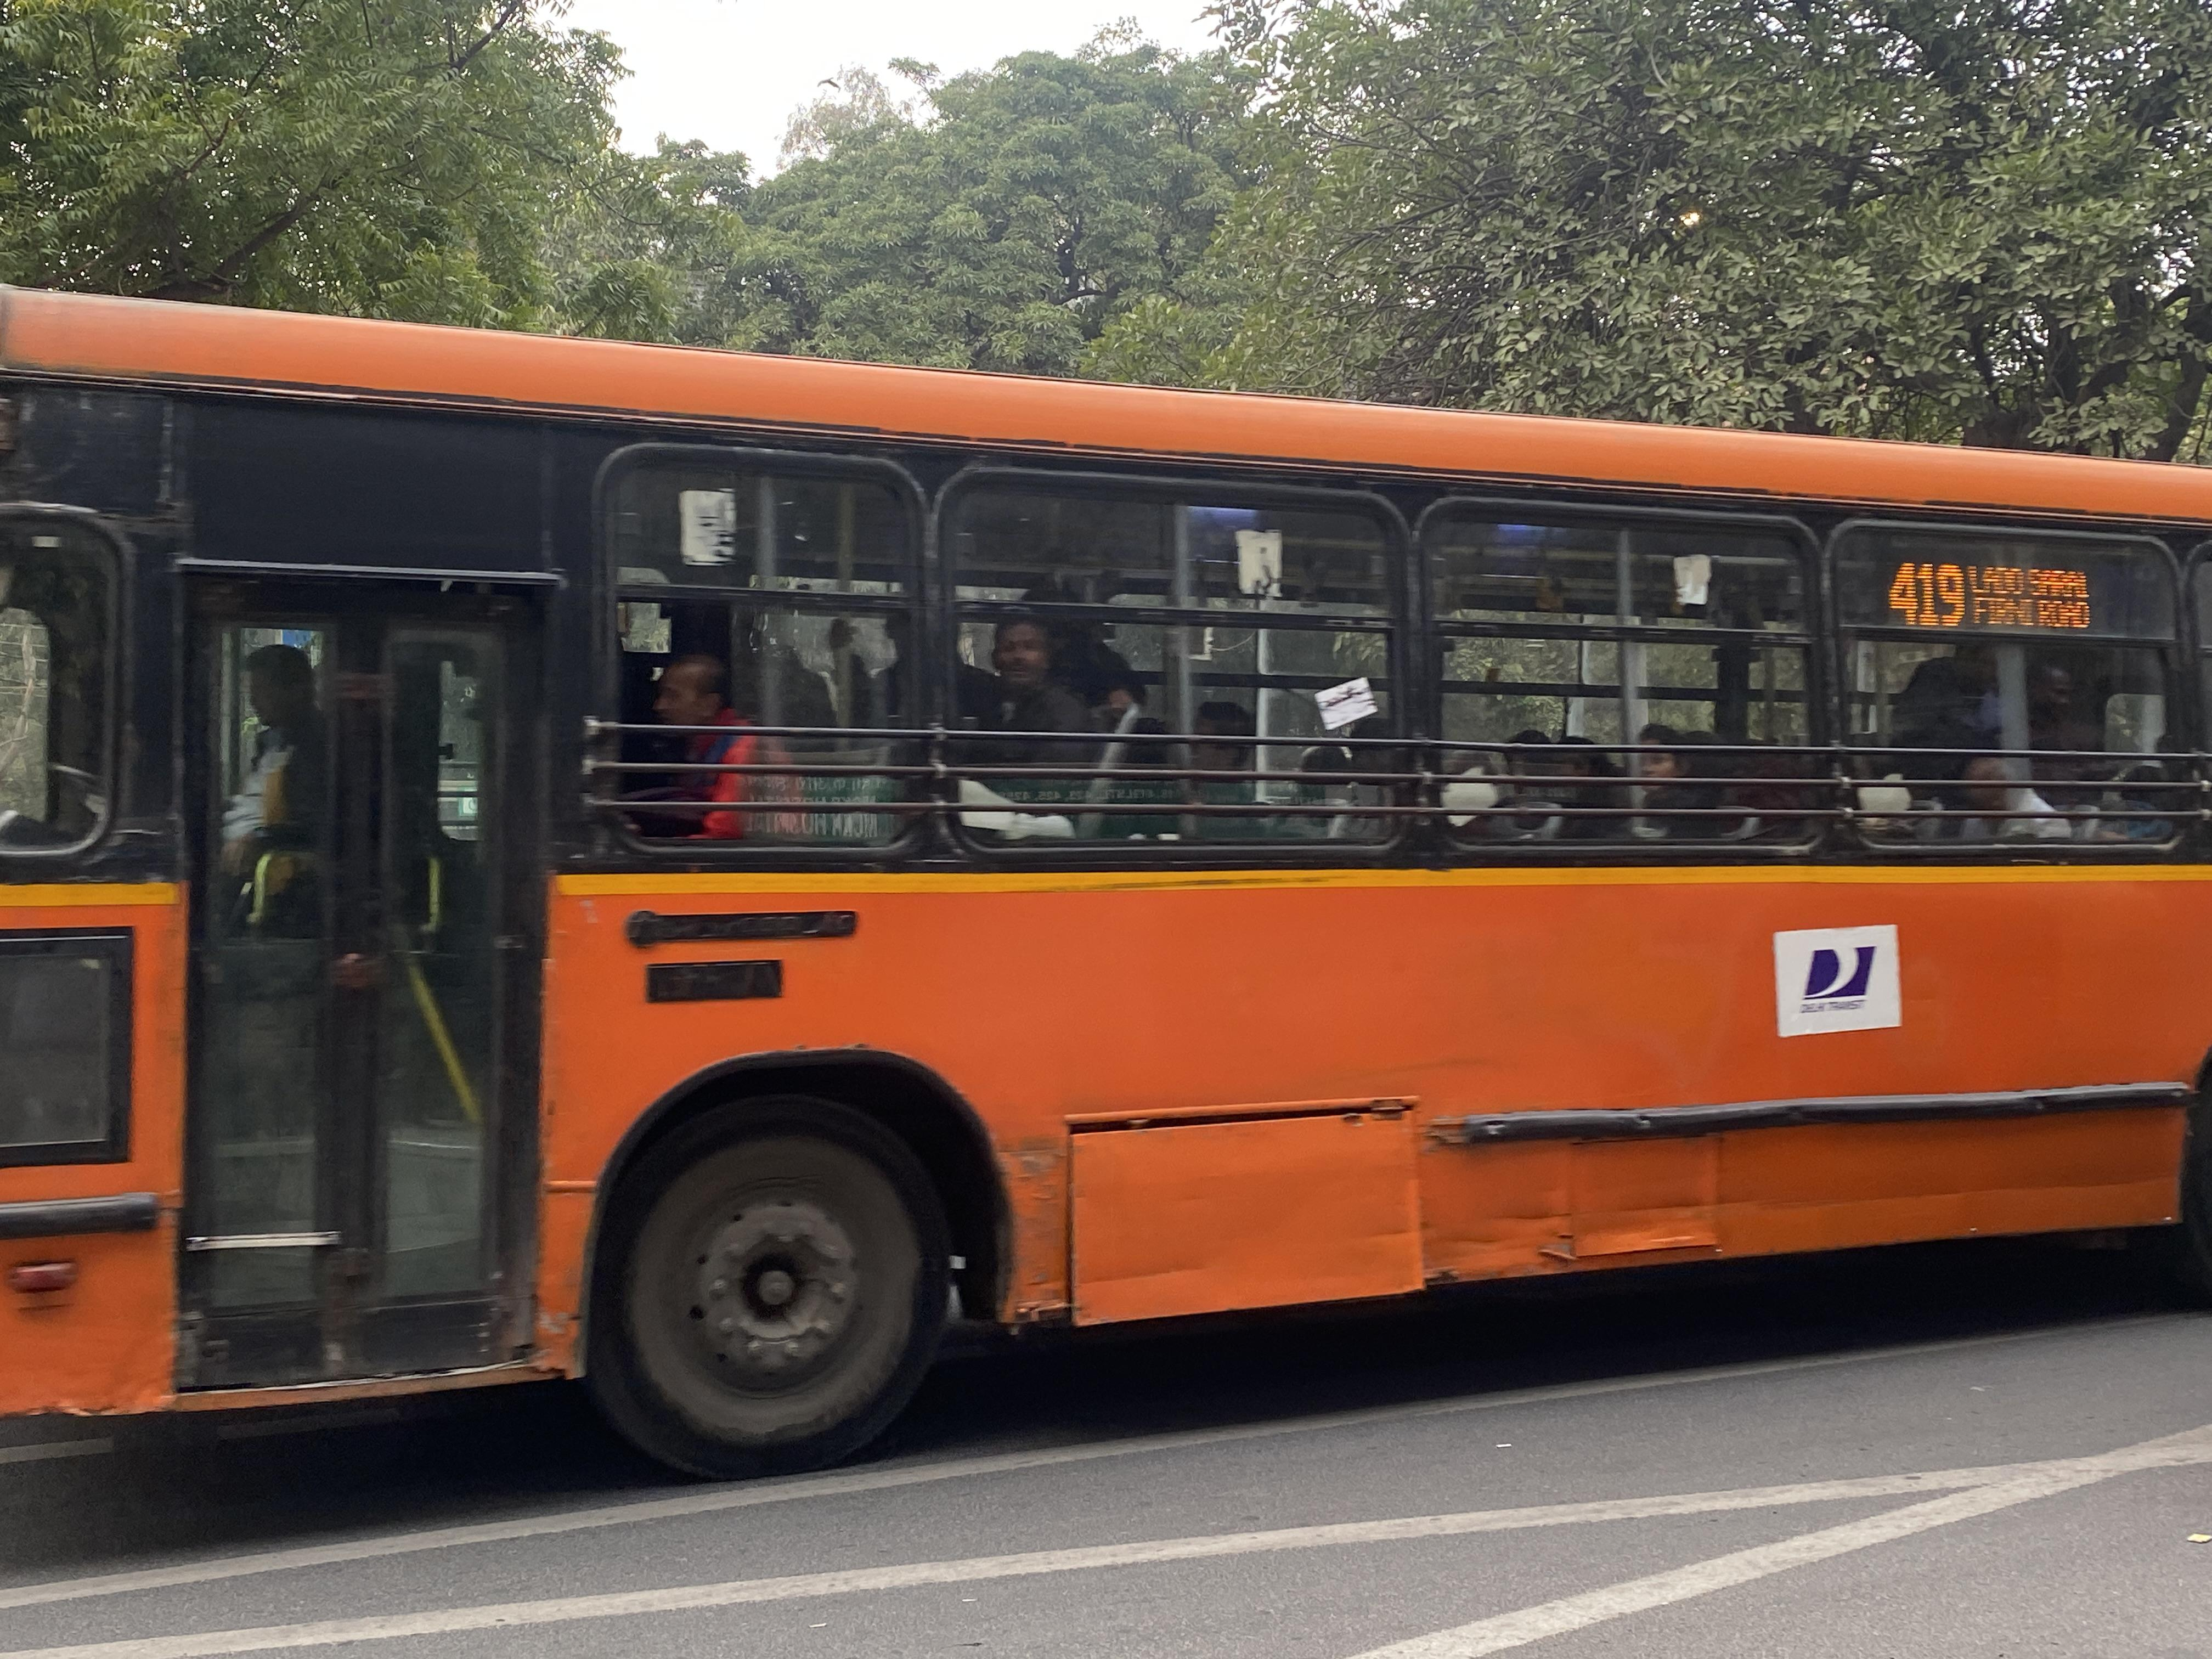Bus: (0, 307, 2212, 1481)
Display Board: (1817, 505, 2195, 664)
